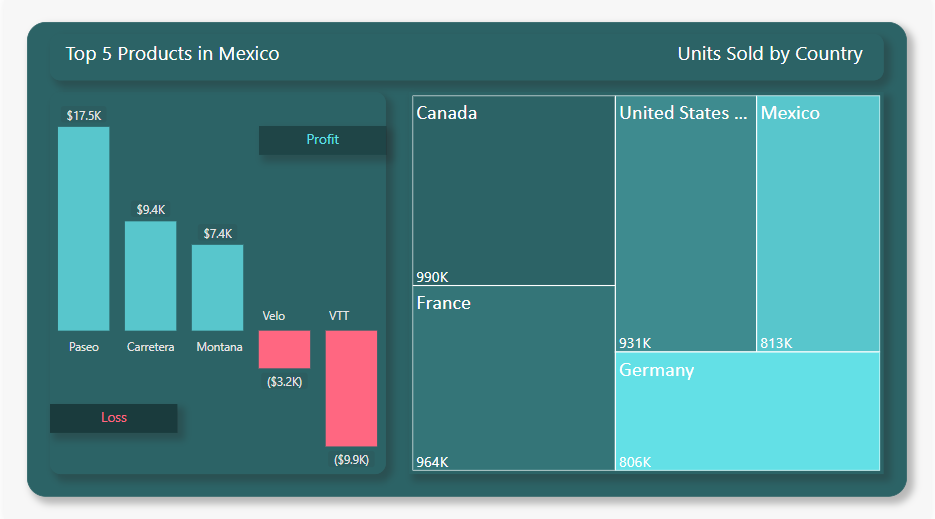

This screenshot's page, from the dashboard's own definition file:
{"tool":"powerbi","page":{"name":"Top 5 Products in Mexico & Units Sold by Country","canvas":[1280,720],"ordinal":2},"visuals":[{"type":"basicShape","box":[32,32,1216,656],"z":0},{"type":"clusteredColumnChart","fields":{"Category":["financials.Product"],"Y":["Sum(financials.After Discount Profit)"]},"box":[64,128,464,528],"z":1000},{"type":"textbox","box":[64,48,1152,64],"z":2000},{"type":"treemap","fields":{"Values":["Sum(financials.Units Sold)"],"Group":["financials.Country"]},"box":[560,128,656,528],"z":3000},{"type":"textbox","box":[80,464,256,48],"z":4000},{"type":"textbox","box":[352,421,256,32],"z":5000},{"type":"textbox","box":[80,50,400,48],"z":6000},{"type":"textbox","box":[792,50,400,48],"z":7000},{"type":"textbox","box":[352,176,176,40],"z":8000},{"type":"textbox","box":[64,560,176,40],"z":9000}]}

Visuals, with their boxes in screenshot pixels (x1, y1, x2, y2), scaled from the page's 1280x720 canvas onto the 935x519 screenshot:
basicShape: {"left": 23, "top": 23, "right": 912, "bottom": 496}
clusteredColumnChart - financials.Product x Sum(financials.After Discount Profit): {"left": 47, "top": 92, "right": 386, "bottom": 473}
textbox: {"left": 47, "top": 35, "right": 888, "bottom": 81}
treemap - Sum(financials.Units Sold) x financials.Country: {"left": 409, "top": 92, "right": 888, "bottom": 473}
textbox: {"left": 58, "top": 334, "right": 245, "bottom": 369}
textbox: {"left": 257, "top": 303, "right": 444, "bottom": 327}
textbox: {"left": 58, "top": 36, "right": 351, "bottom": 71}
textbox: {"left": 579, "top": 36, "right": 871, "bottom": 71}
textbox: {"left": 257, "top": 127, "right": 386, "bottom": 156}
textbox: {"left": 47, "top": 404, "right": 175, "bottom": 432}
